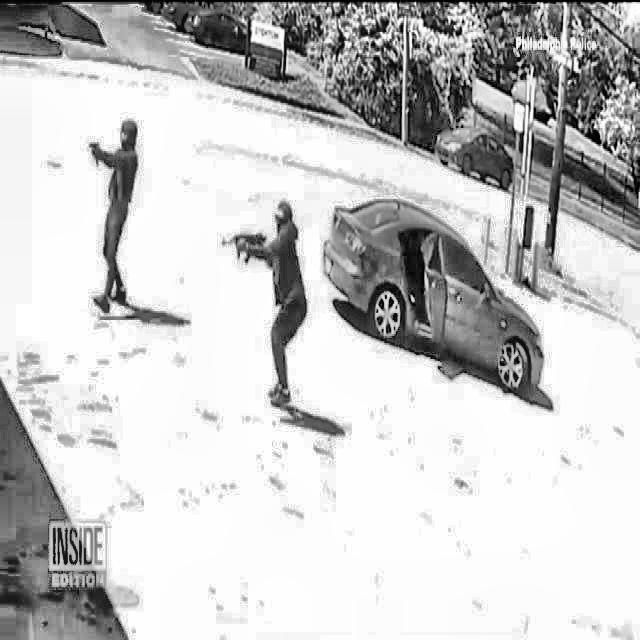robbery: (66, 103, 559, 416)
